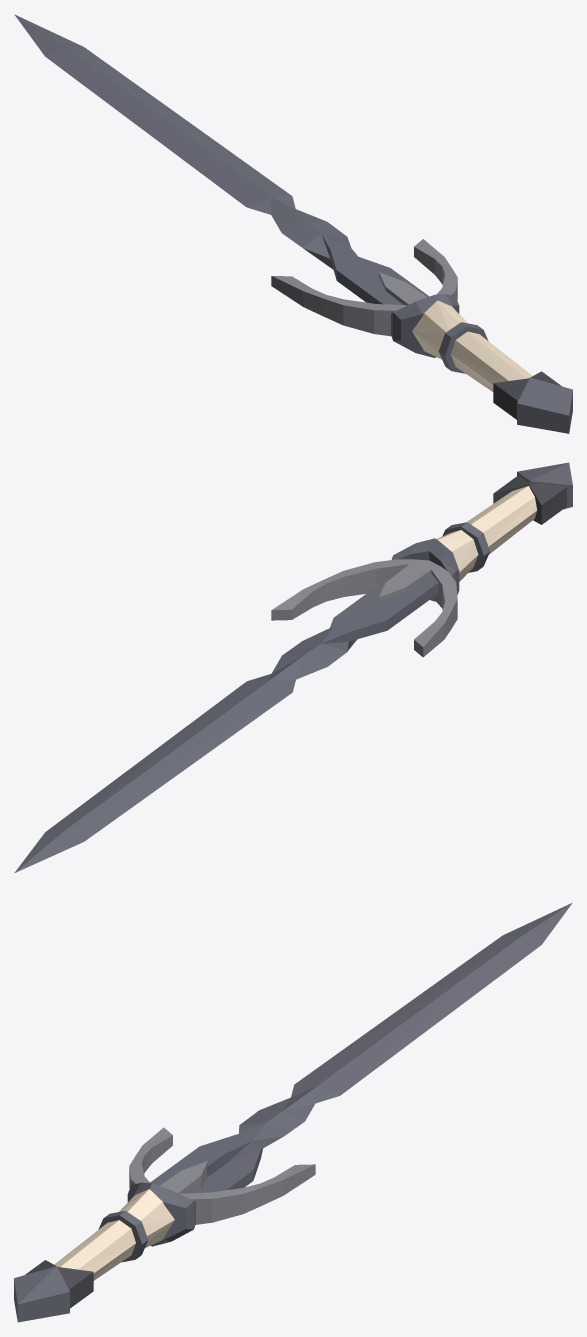
The model's file is sword_10.glb.
The picture shows the model from 3 angles, top to bottom: view 1: azimuth 30°, elevation 25°; view 2: azimuth 150°, elevation 25°; view 3: azimuth 330°, elevation 25°; orthographic projection.
Parts seen in each view (by area): view 1: sword_10; view 2: sword_10; view 3: sword_10.
Part boxes in pixels (left/top/right/bottom): sword_10: left=14, top=14, right=572, bottom=433; sword_10: left=14, top=462, right=572, bottom=872; sword_10: left=14, top=903, right=572, bottom=1322.
Size of the model in its own units: 0.1657 by 0.066 by 1.05.
Materials: 1 (1 with a texture image).
